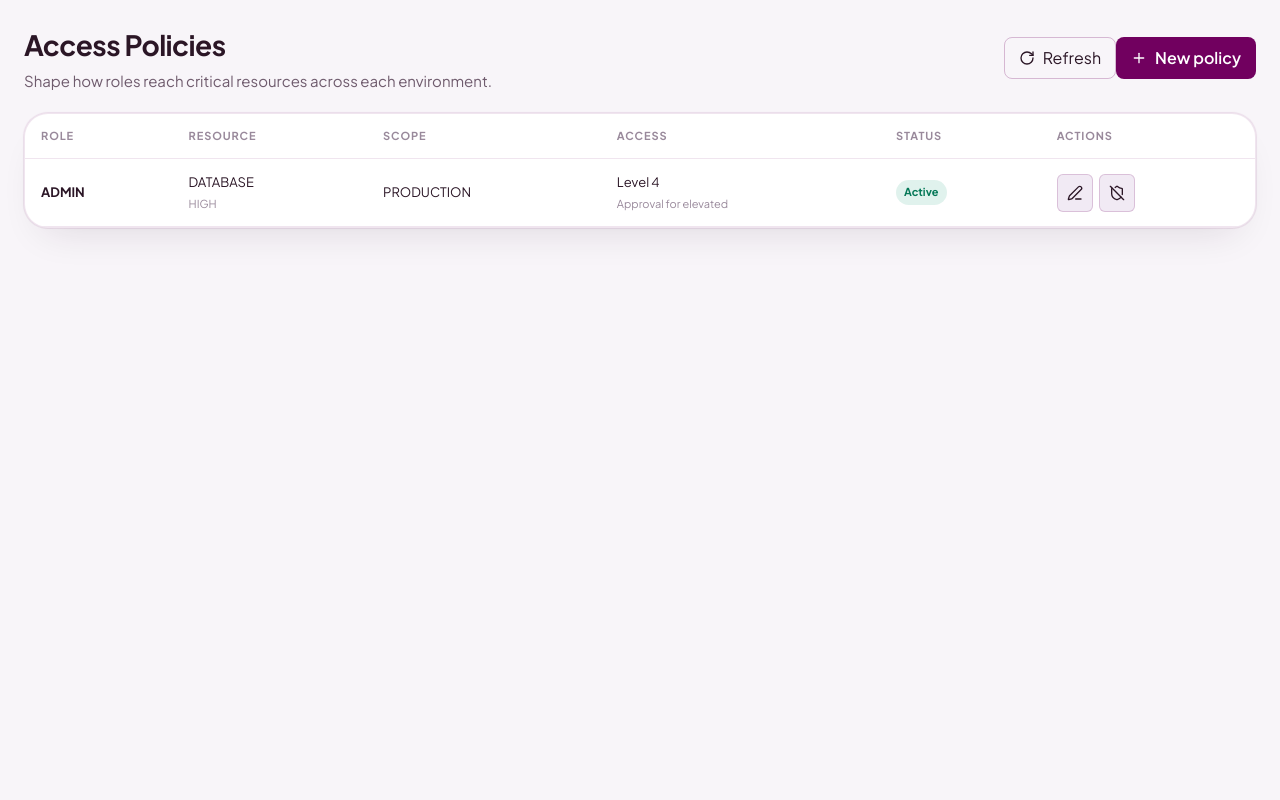
Test case: Policy management screen › loads policies and opens the create form
Expected: the text "ADMIN" is shown, [41, 184, 85, 200]
Expected: the table named "access policies" is shown, [25, 114, 1255, 227]
Click the button "New policy".
click(1186, 58)  # box [1116, 37, 1256, 79]
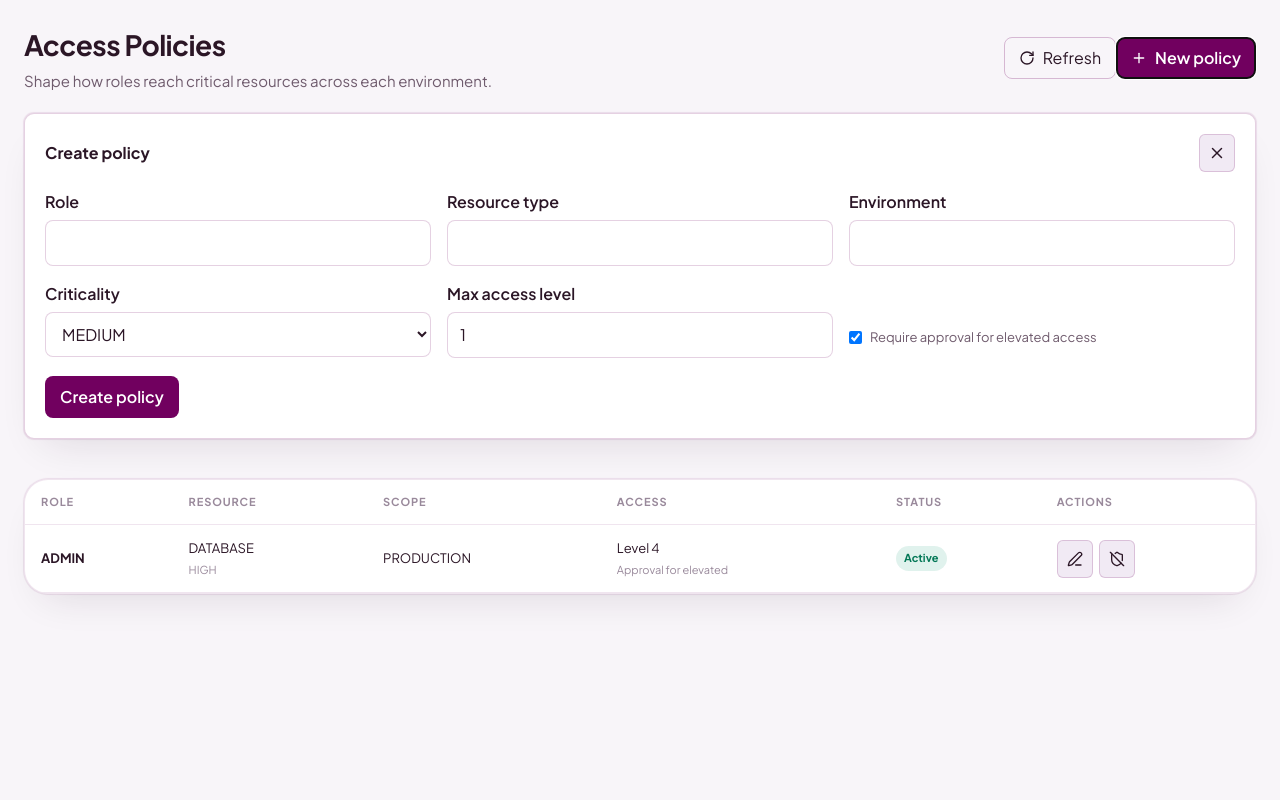
Expected: the form named "policy form" is shown, [24, 112, 1256, 438]
Expected: the button "Create policy" is shown, [45, 376, 179, 418]
